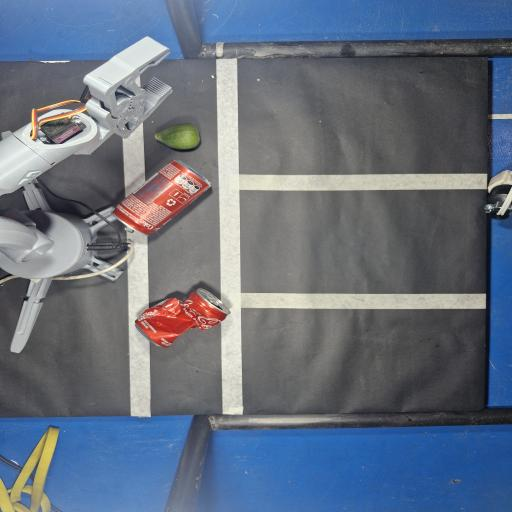higo: (155, 124, 200, 150)
lata: (113, 161, 210, 236)
lata_defectuoso: (136, 289, 230, 347)
